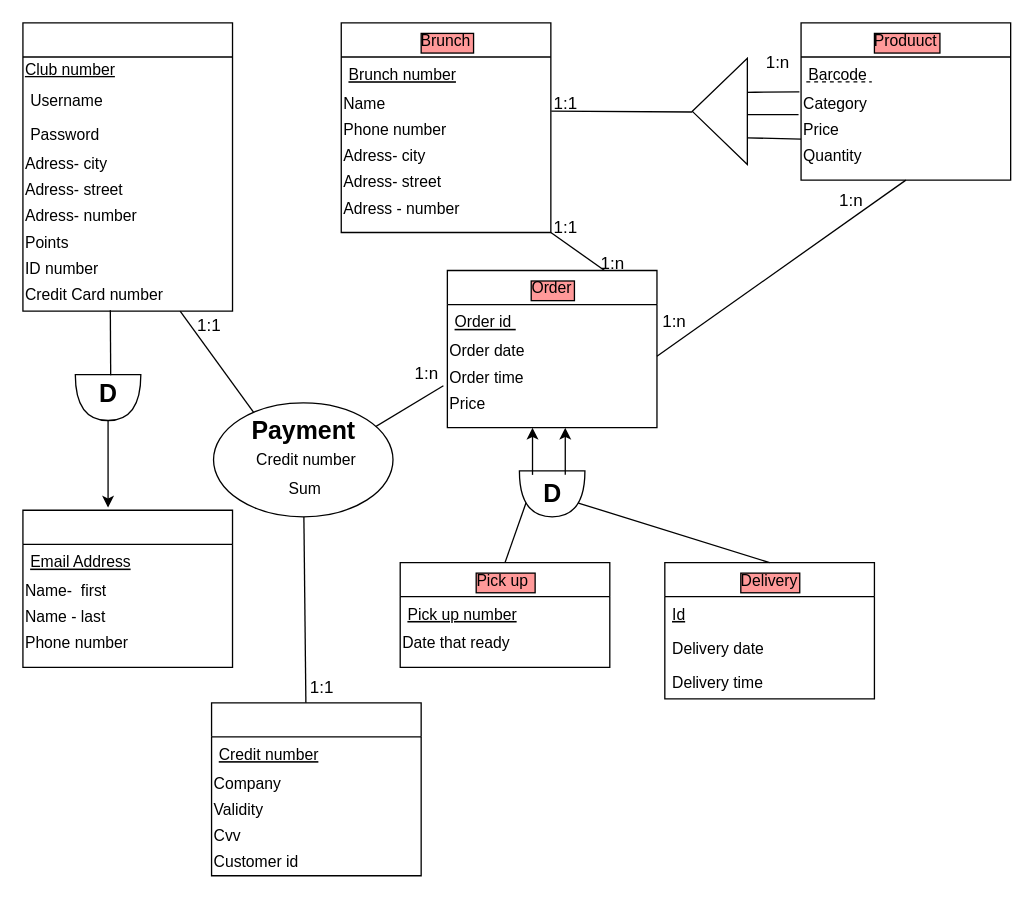
Image size: 1034x899. Some labels were removed from this diagram. The box of each missing label's shape, as (x1, y1, x2, y2) in pixels:
Credit card: (210, 702, 421, 876)
Customer: (22, 509, 233, 667)
Registered customer: (22, 22, 233, 311)
